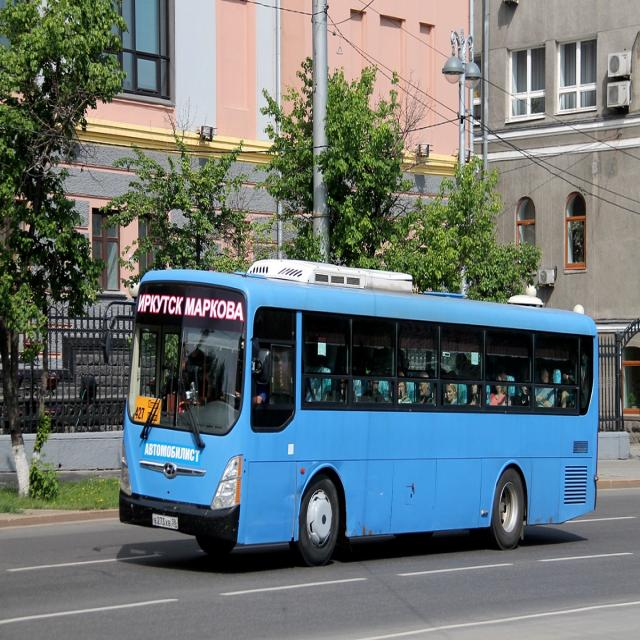number-of-bus: (135, 405, 146, 422)
